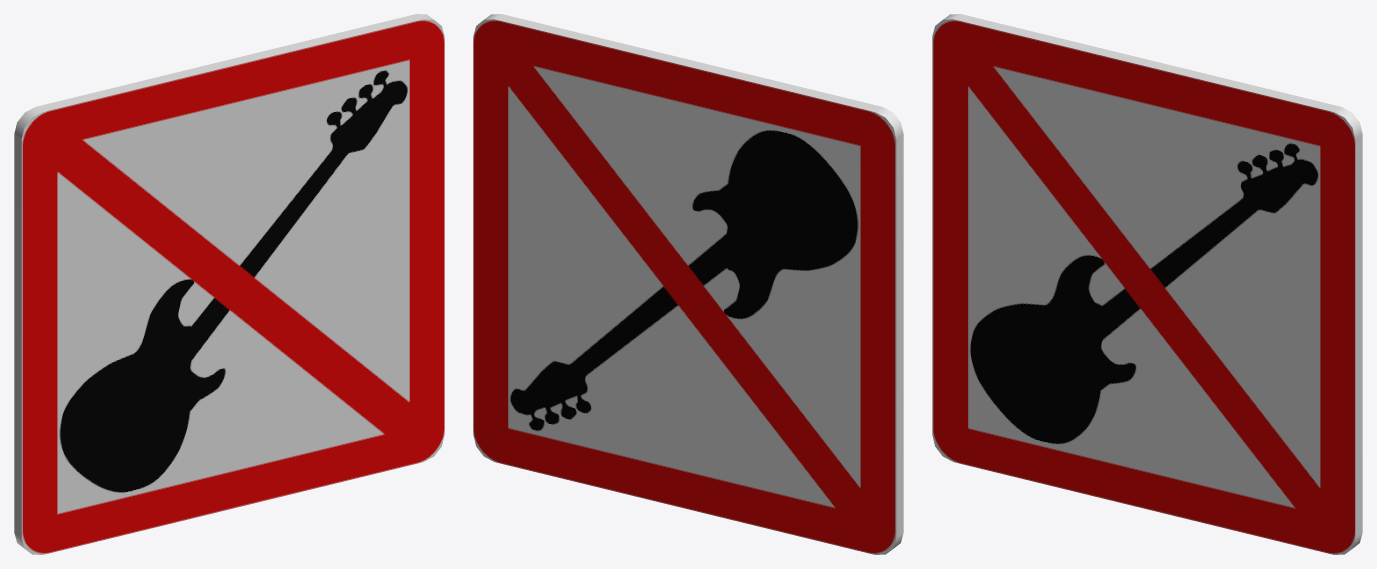
File: no_bass.fbx
The picture shows the model from 3 angles, left to right: view 1: azimuth 30°, elevation 25°; view 2: azimuth 150°, elevation 25°; view 3: azimuth 330°, elevation 25°; orthographic projection.
Visible parts, largest first — view 1: pCube1; view 2: pCube1; view 3: pCube1.
Boxes of the visible parts, x1,y1,x2,y2 form: pCube1: (14, 14, 444, 554); pCube1: (473, 14, 903, 554); pCube1: (932, 14, 1362, 554).
Bounding box in the file's own units: 1 × 1 × 0.03.
1 material, 1 textured.
